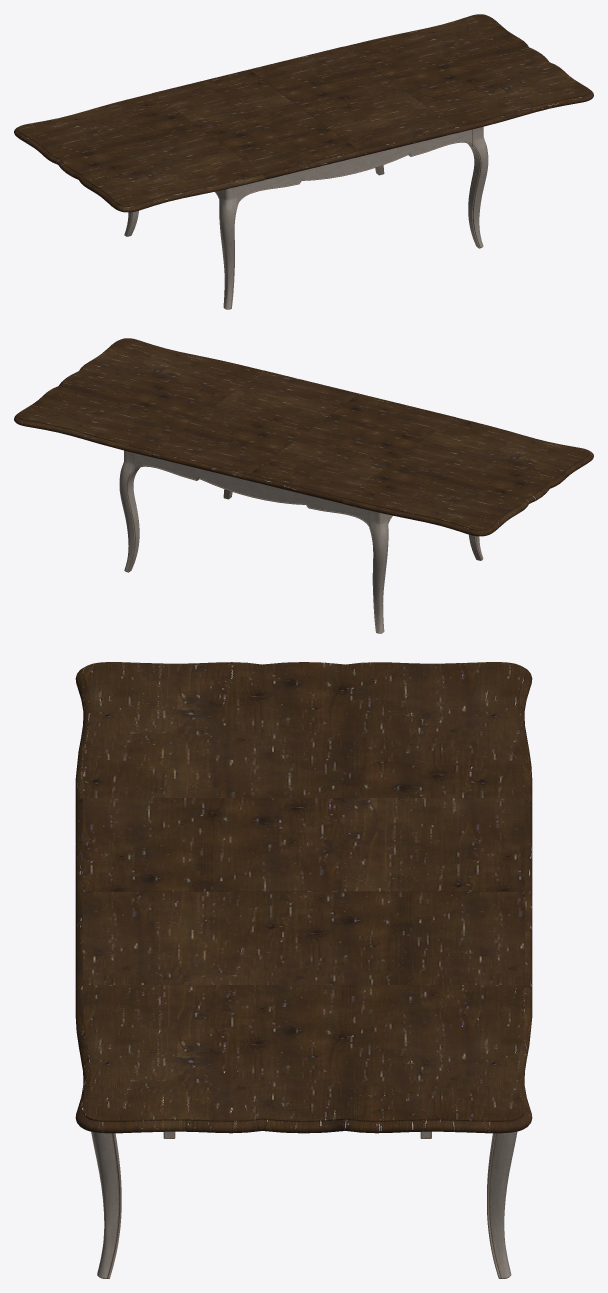
The model's file is example124.glb.
3 renders of one model, top to bottom at view 1: azimuth 30°, elevation 25°; view 2: azimuth 150°, elevation 25°; view 3: azimuth 270°, elevation 25°, orthographic. The views are drawn at different scales.
Visible parts, largest first — view 1: Buffer Layer (×2); view 2: Buffer Layer (×2); view 3: Buffer Layer (×2).
Part boxes in pixels (x1=…): Buffer Layer (×2): x1=14, y1=14, x2=593, y2=309; Buffer Layer (×2): x1=14, y1=338, x2=593, y2=633; Buffer Layer (×2): x1=75, y1=662, x2=532, y2=1278.
Bounding box in the file's own units: 3.24 × 0.8512 × 1.34.
Materials: 2 (2 with a texture image).
